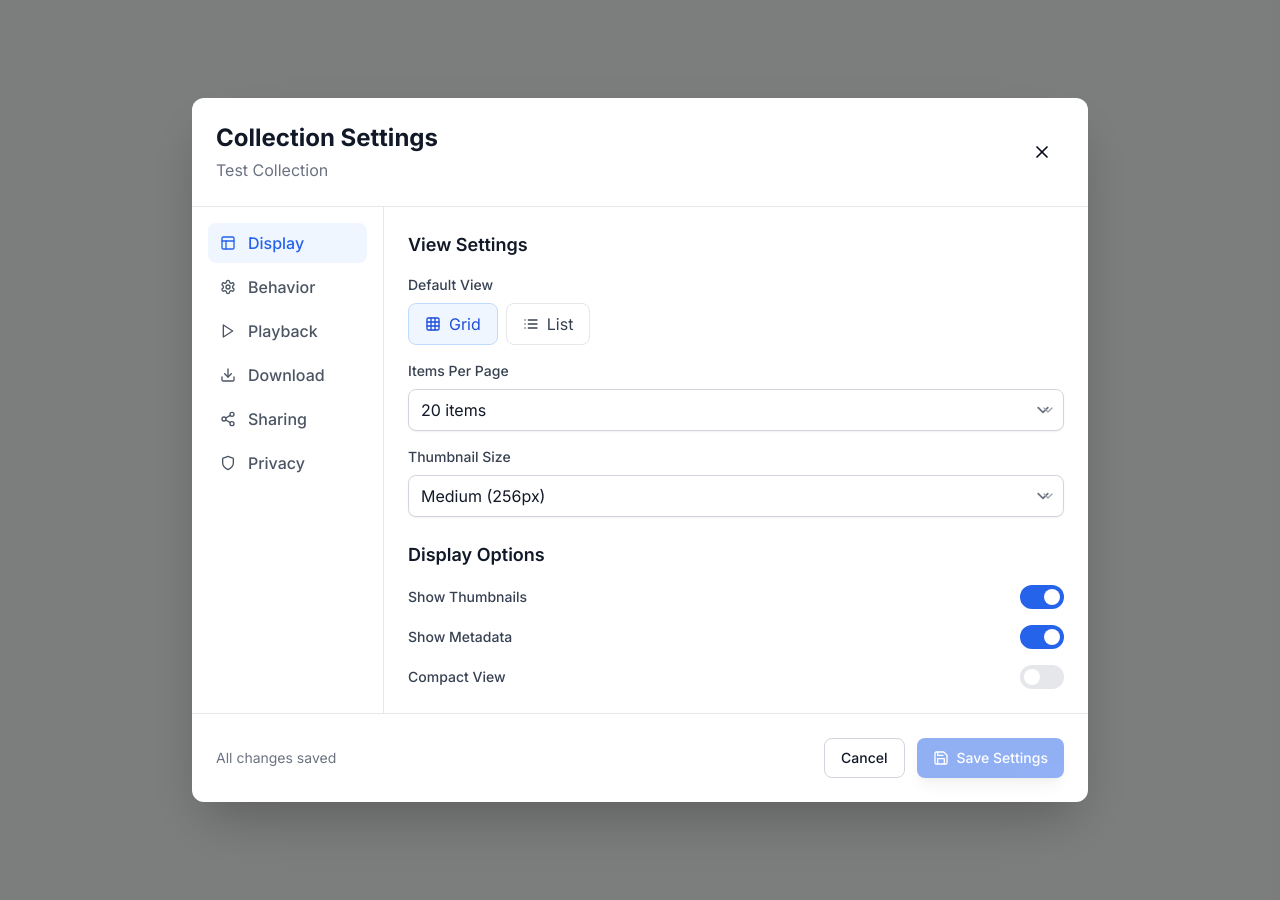
Test: CollectionSettings › switches to Privacy tab
Click the button "Privacy" at (288, 463), box [208,443,367,483]
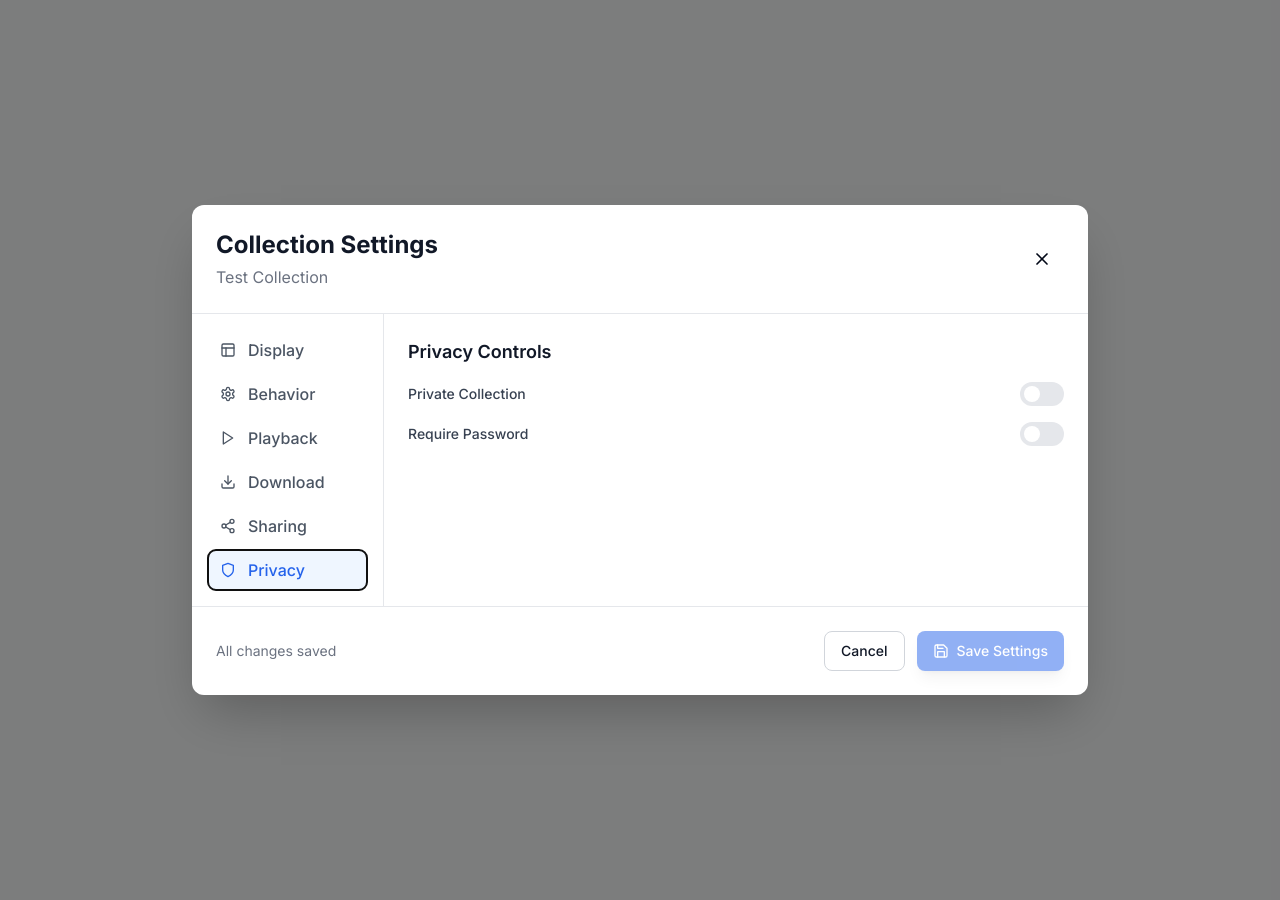
expect the heading "Privacy Controls" is shown: met, box [408,341,552,362]
expect the text "Private Collection" is shown: met, box [408,384,526,404]
expect the text "Require Password" is shown: met, box [408,424,528,444]
